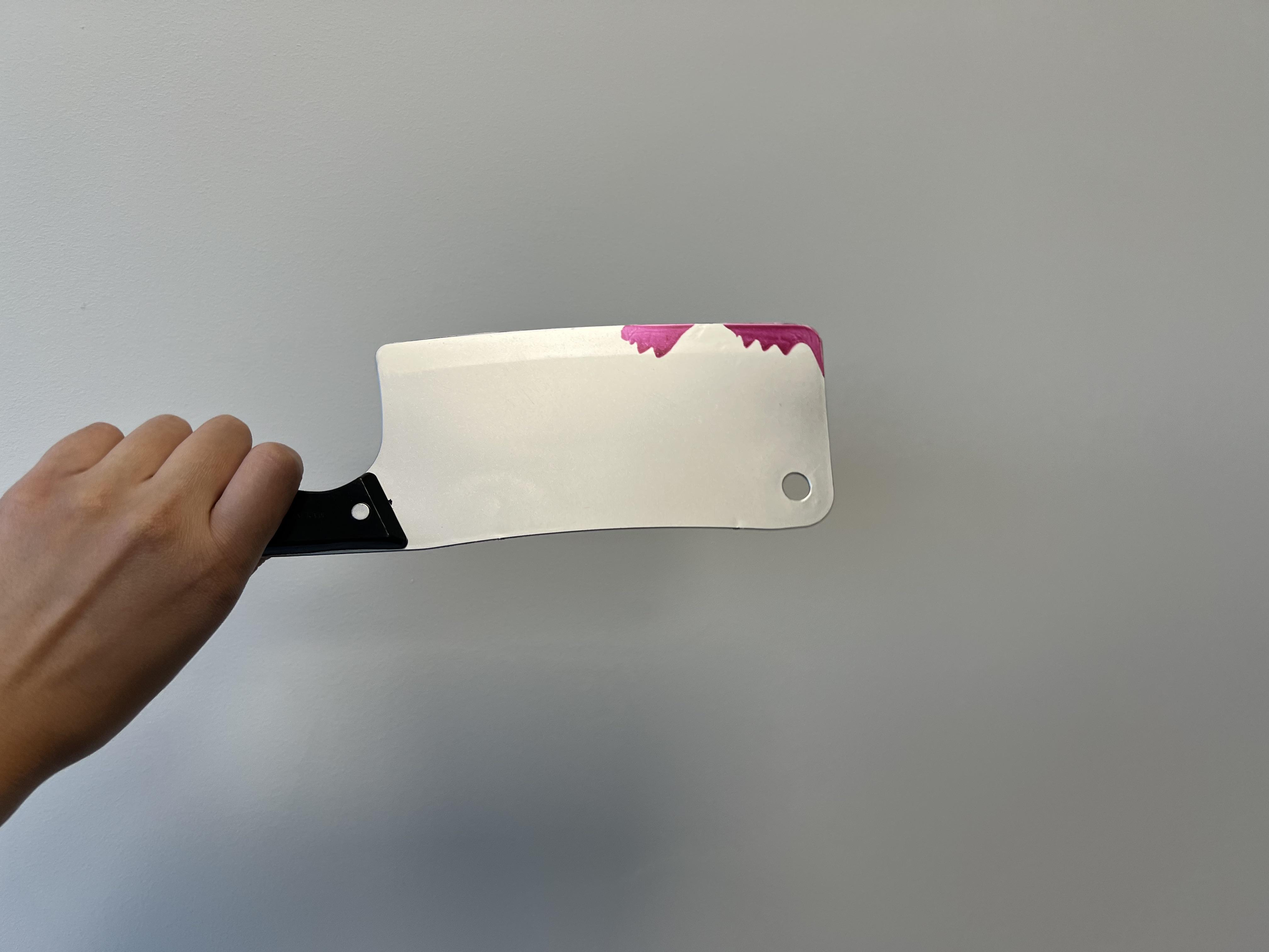Knife: (303, 323, 836, 562), (0, 412, 303, 828), (0, 415, 301, 732)
